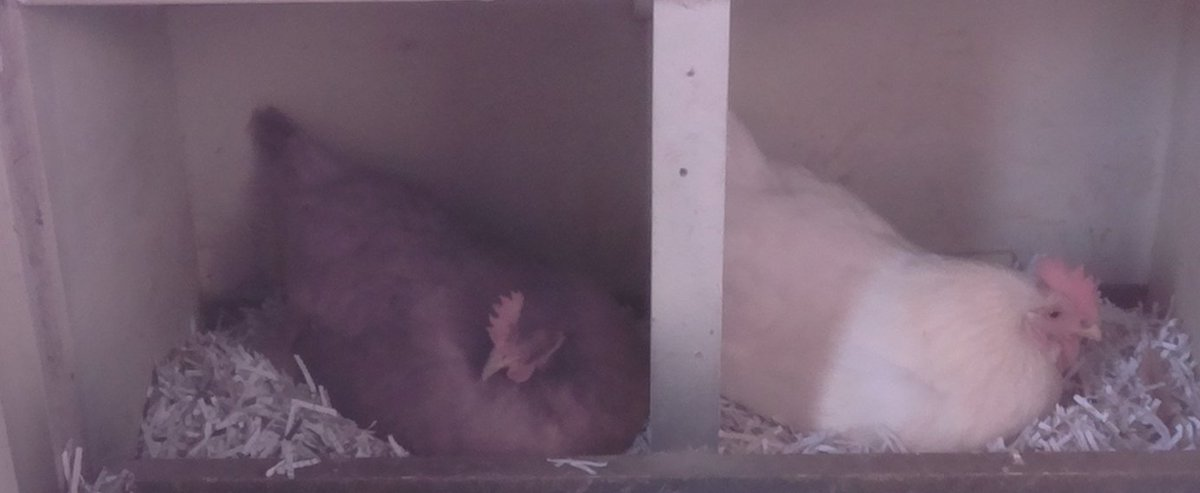hen: (226, 115, 651, 450), (727, 153, 1108, 451)
